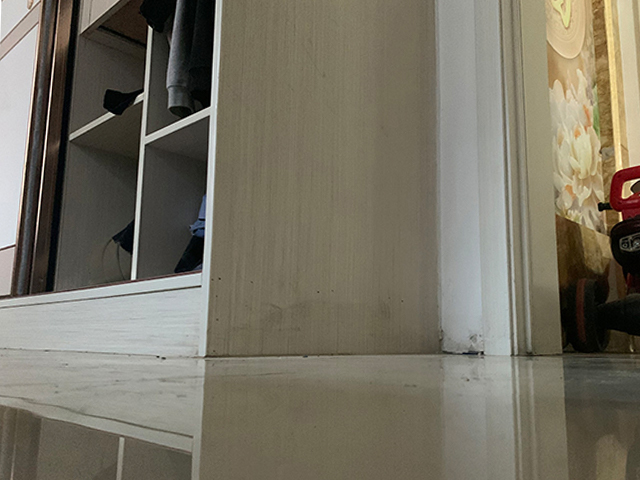cabinet: (1, 1, 445, 359)
